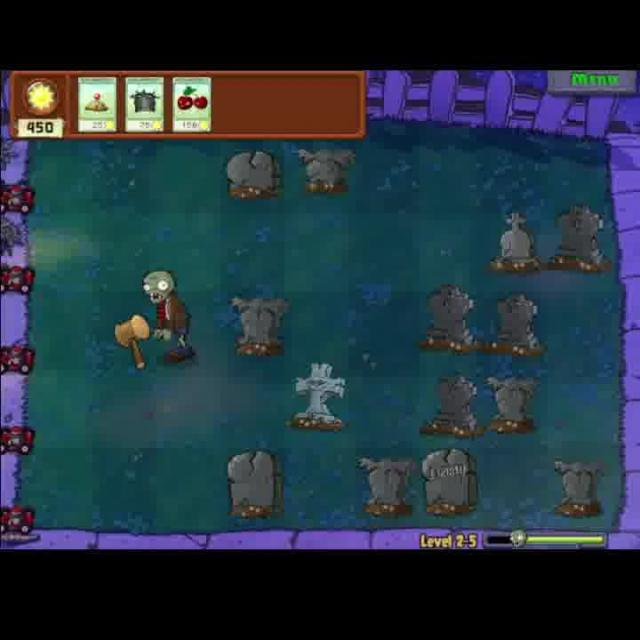coins: (132, 262, 202, 371)
